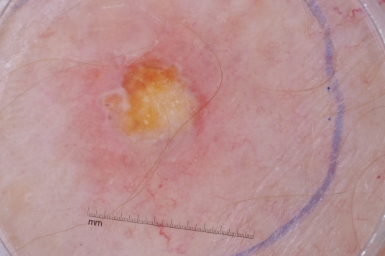seborrheic keratosis: (76, 37, 234, 172)
